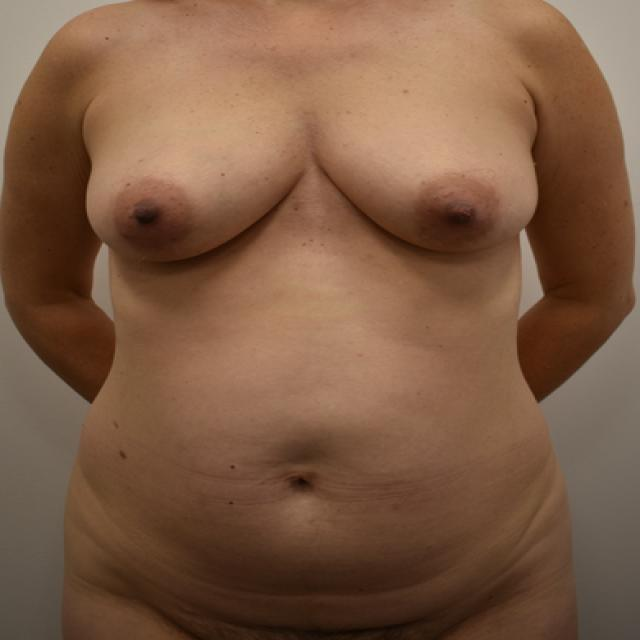Seno ileso: (72, 85, 316, 281), (320, 83, 548, 271)
